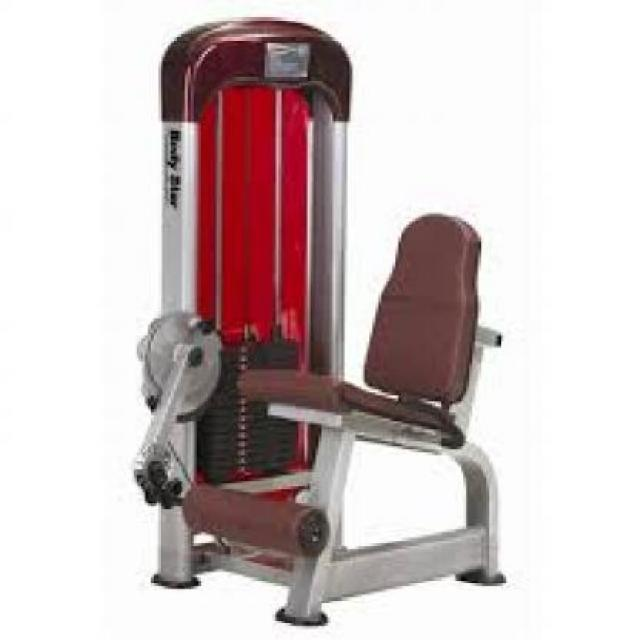leg extension: (113, 7, 521, 640)
